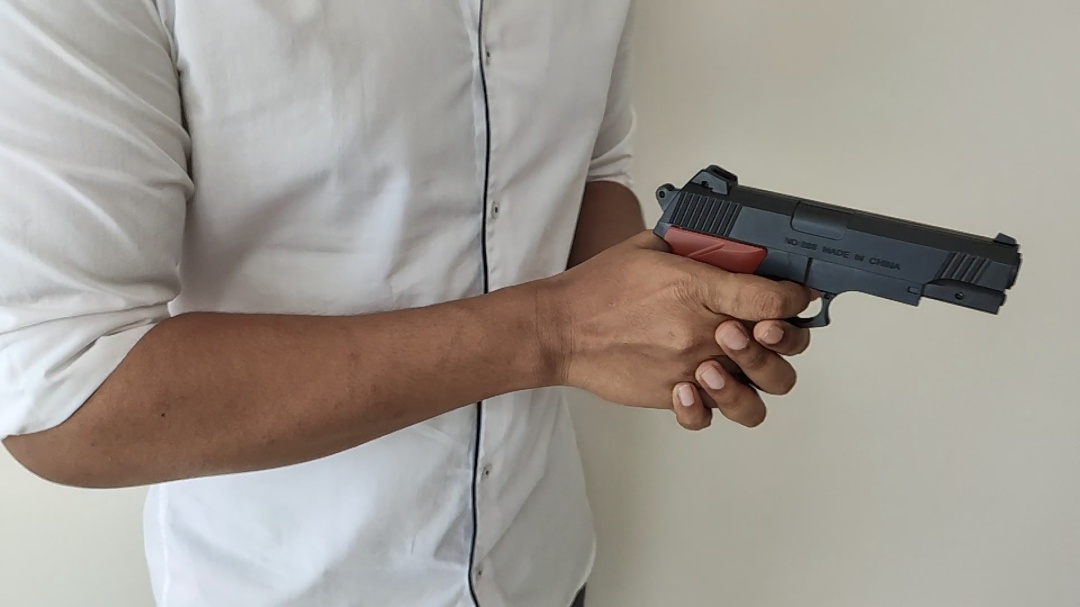gun: (653, 165, 1023, 327)
